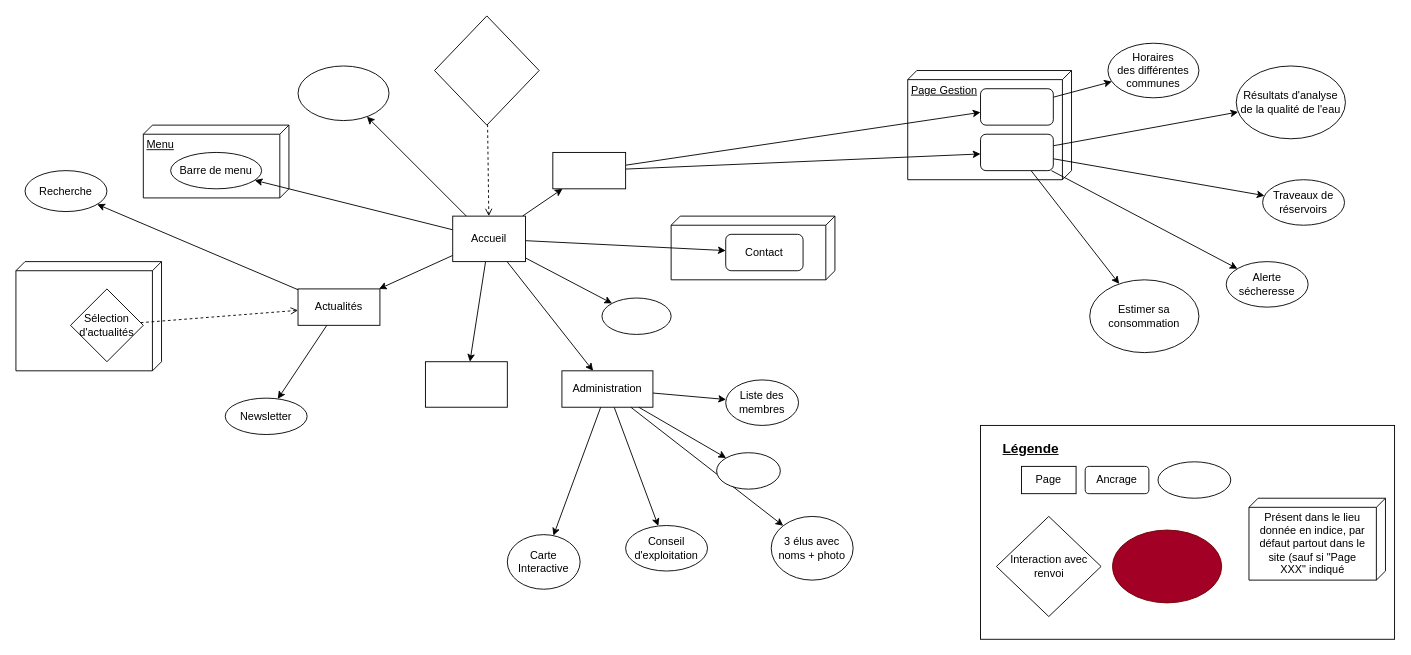
Image size: 1411x655. Some labels were removed from this diagram. Here are the shapes that lost their labels. From the top down, the box of each, then its label:
(434, 15, 539, 125): Clic sur Icone renvoie à Accueil
(297, 65, 389, 121): Résumé et présentation de la région
(980, 88, 1053, 125): Déchets
(552, 152, 626, 189): Gestion
(980, 133, 1053, 171): Eau
(670, 215, 835, 280): Footer
(15, 261, 162, 371): Côté Droit
(601, 297, 671, 334): Vidéo
(425, 361, 507, 407): Démarches en ligne
(716, 452, 780, 489): Président
(1157, 461, 1231, 498): Contenu
(1112, 529, 1222, 603): Contenu pensé sans idée de lieu d'implémentation
